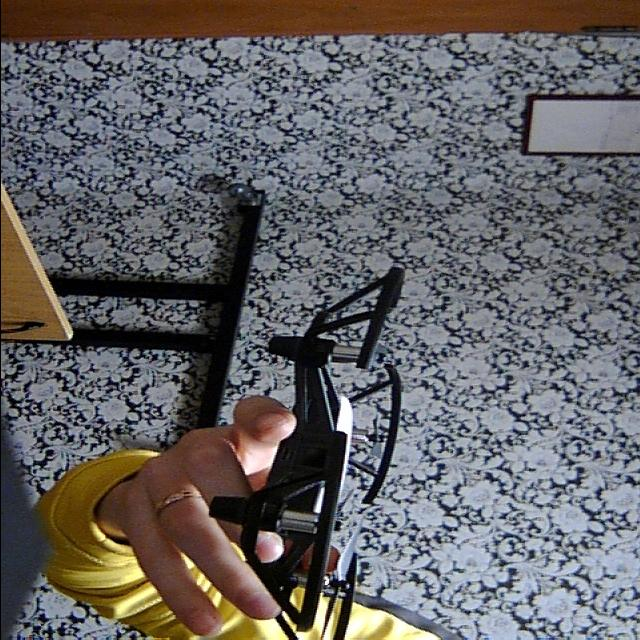drone: (200, 242, 439, 640)
